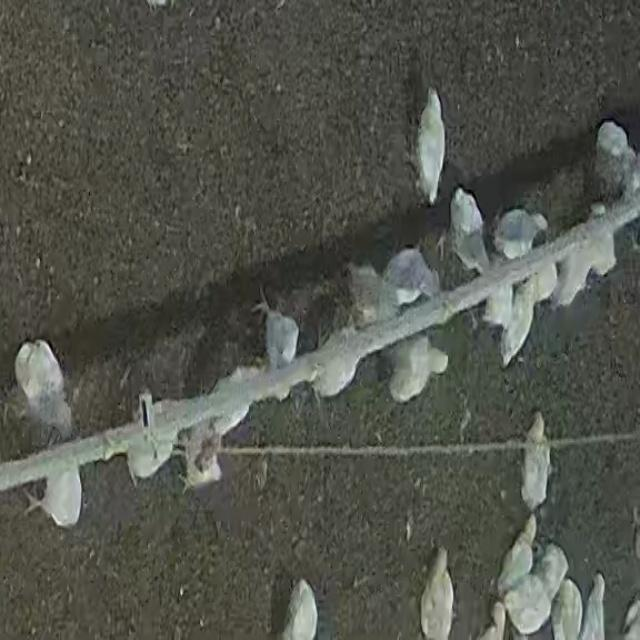chicken: (8, 336, 77, 436), (408, 80, 448, 210), (383, 333, 451, 409), (438, 186, 492, 277), (418, 542, 457, 640), (520, 408, 555, 508), (491, 208, 552, 261)
